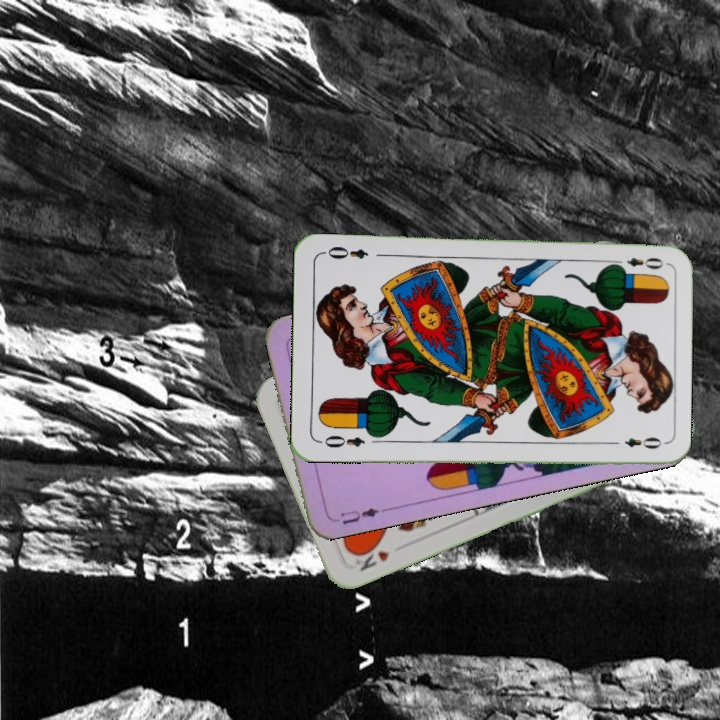EO: (608, 253, 666, 272), (320, 431, 368, 451)
EU: (336, 503, 387, 527)
HK: (346, 541, 393, 574)
